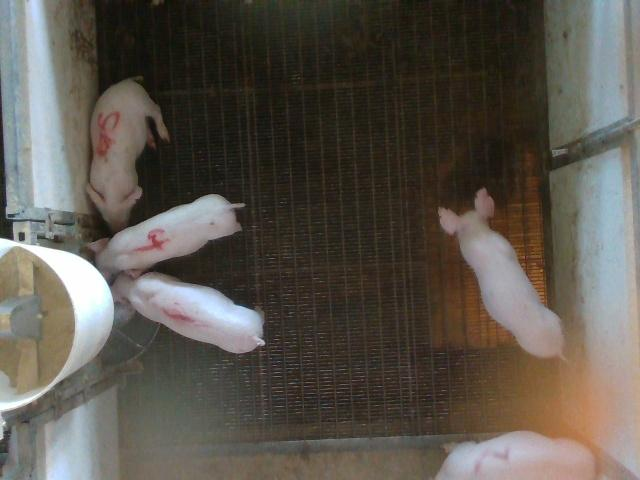pig-1: (111, 272, 265, 353), (436, 431, 596, 479)
pig-4: (96, 195, 244, 280)
pig-5: (86, 78, 170, 232)
